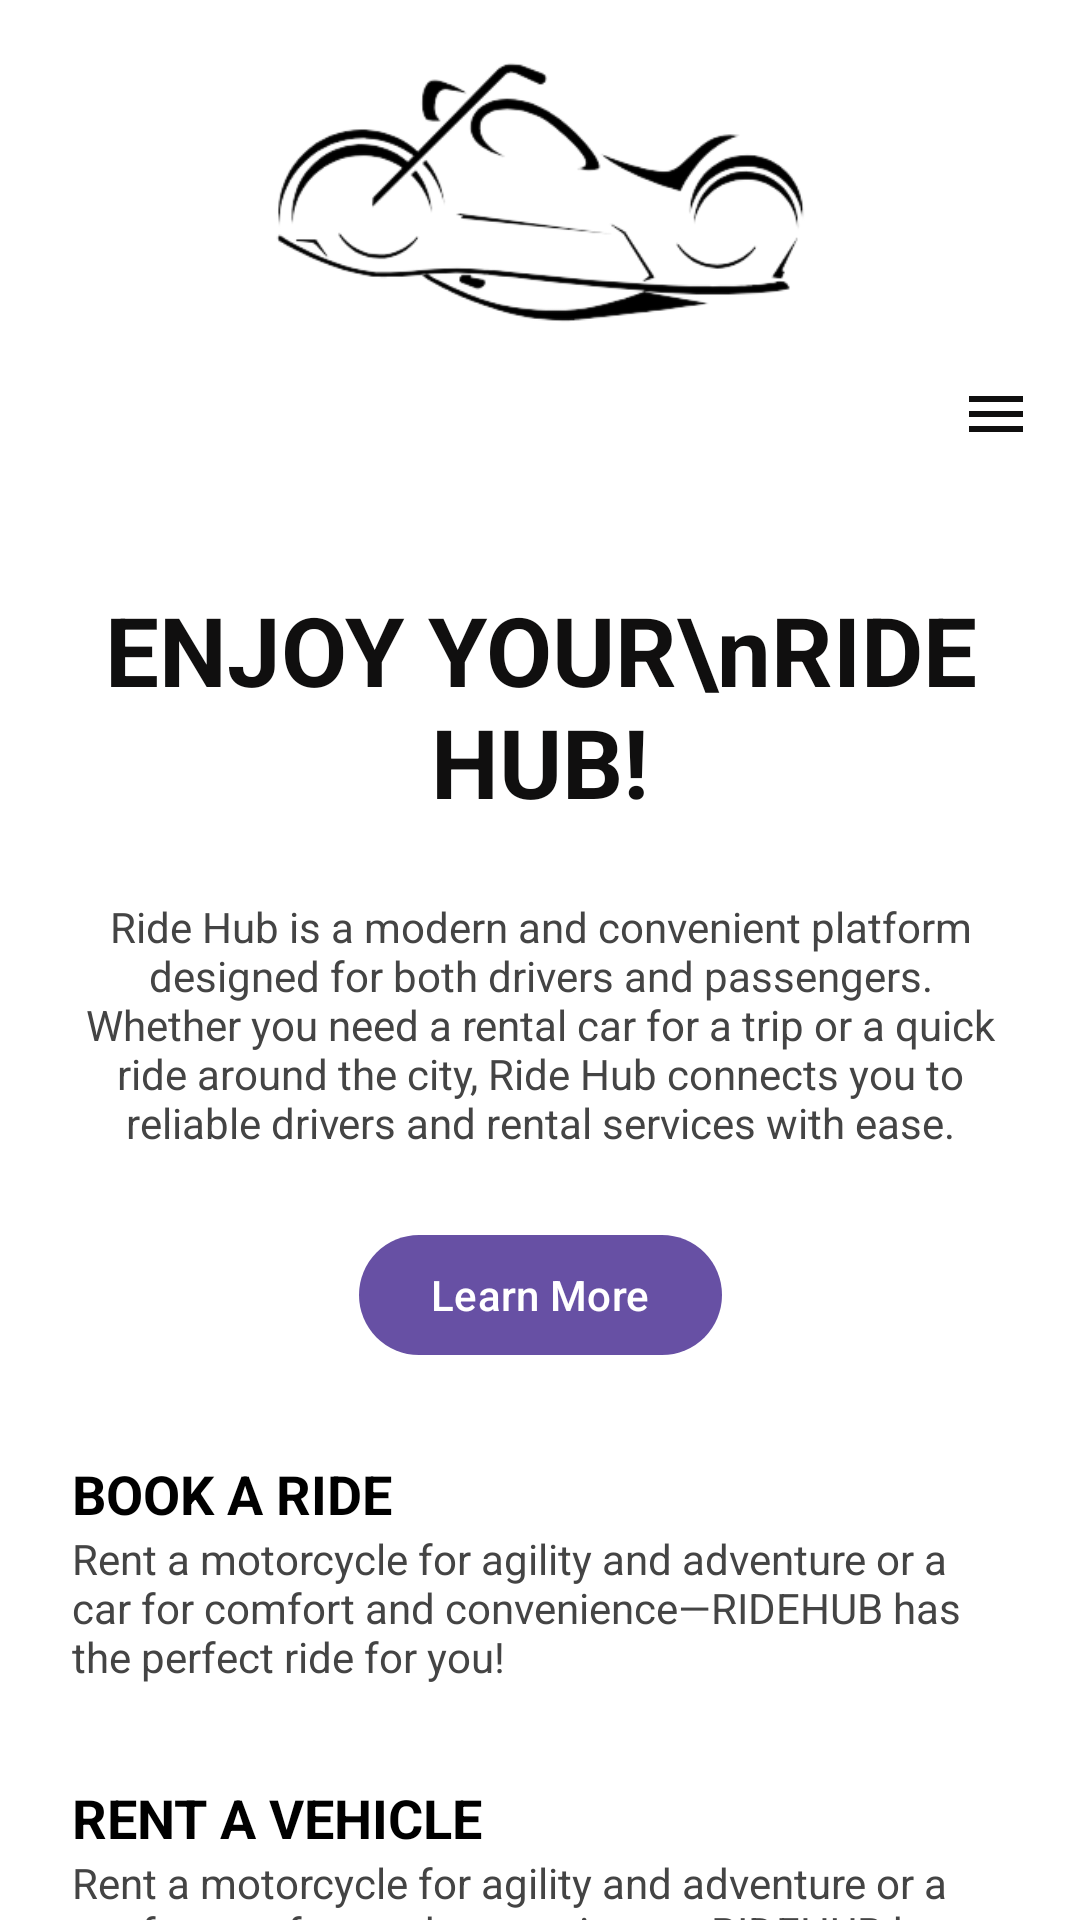

Where to tap for icons on this 1080w x 1920h app screen, as point (x, y):
Menu Button: point (996, 414)
